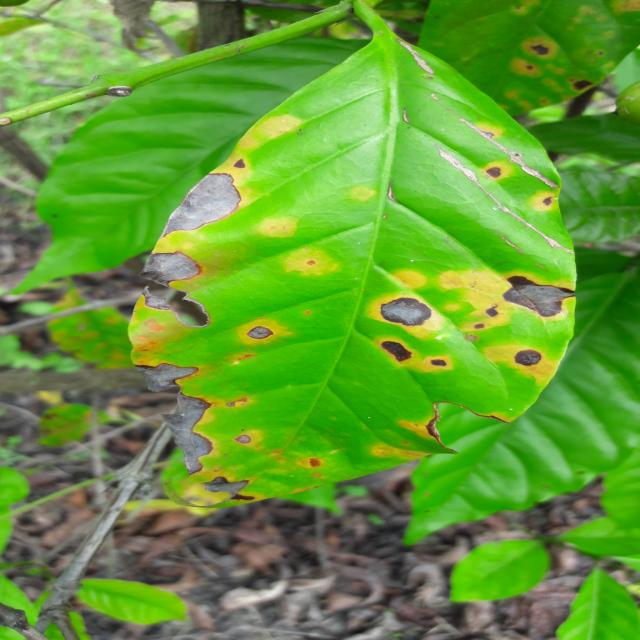Enfermedad-Roya: (64, 28, 577, 515)
